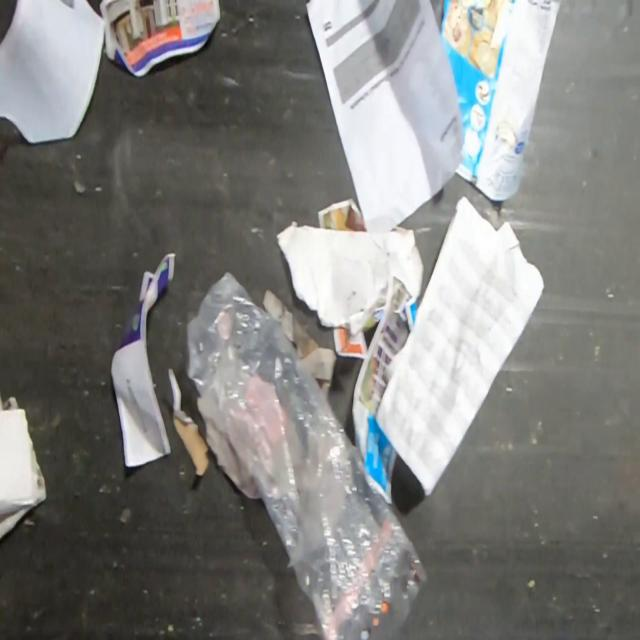cardboard: (274, 218, 426, 336), (260, 287, 337, 392), (166, 366, 210, 478)
soft_plastic: (184, 269, 429, 640)
